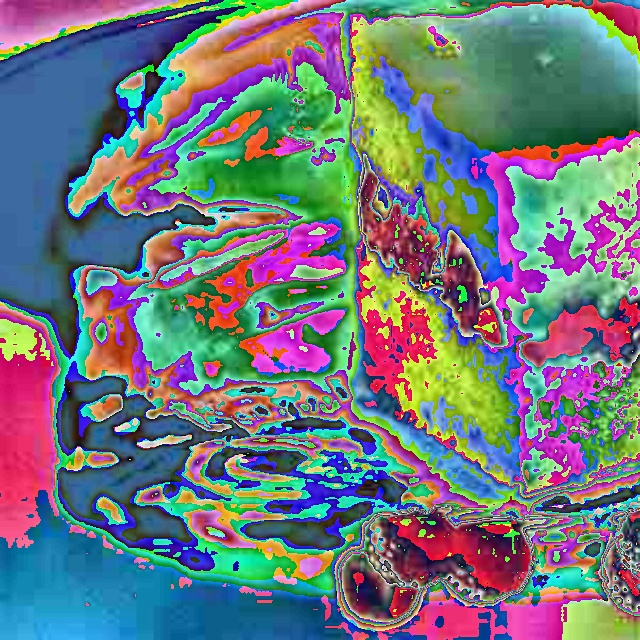background: (52, 11, 639, 627)
